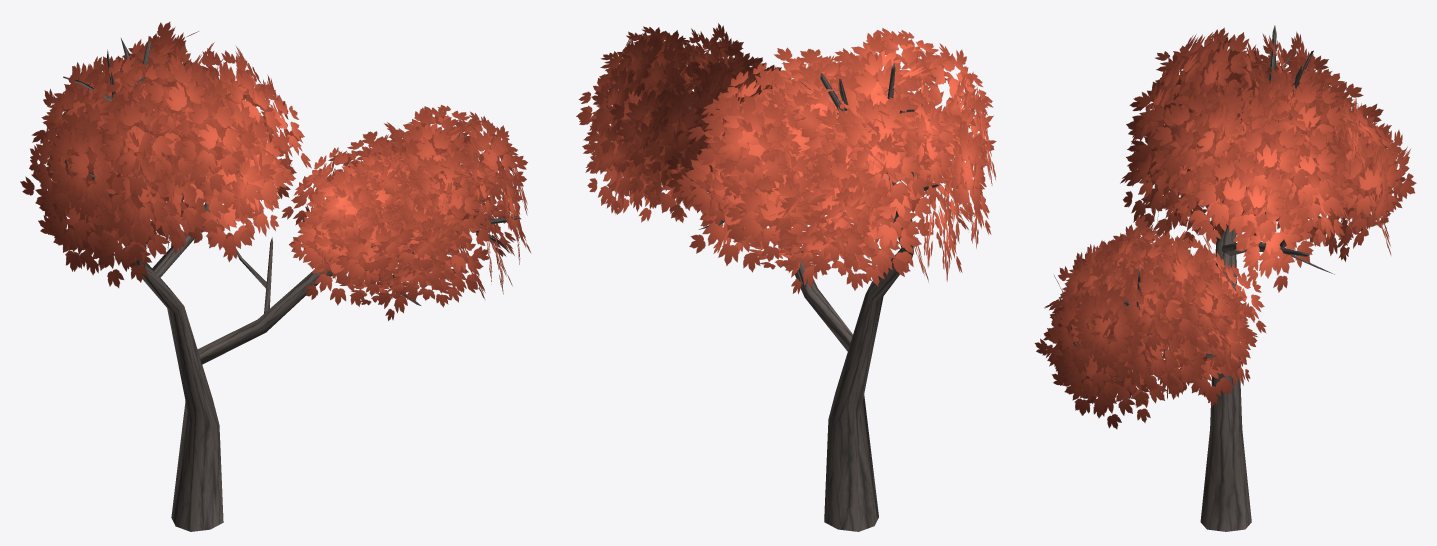
Rendered from MapleTree_1_LOD.glb.
3 views of the same model, side by side, from view 1: azimuth 30°, elevation 25°; view 2: azimuth 150°, elevation 25°; view 3: azimuth 270°, elevation 25° (orthographic). The views are drawn at different scales.
Visible parts, largest first — view 1: MapleTree_1; view 2: MapleTree_1; view 3: MapleTree_1.
Boxes of the visible parts, x1=… form: MapleTree_1: x1=20, y1=22, x2=530, y2=531; MapleTree_1: x1=576, y1=23, x2=996, y2=531; MapleTree_1: x1=1034, y1=25, x2=1416, y2=531.
Size of the model in its own units: 6.23 by 6.64 by 4.9.
2 materials, 2 textured.
